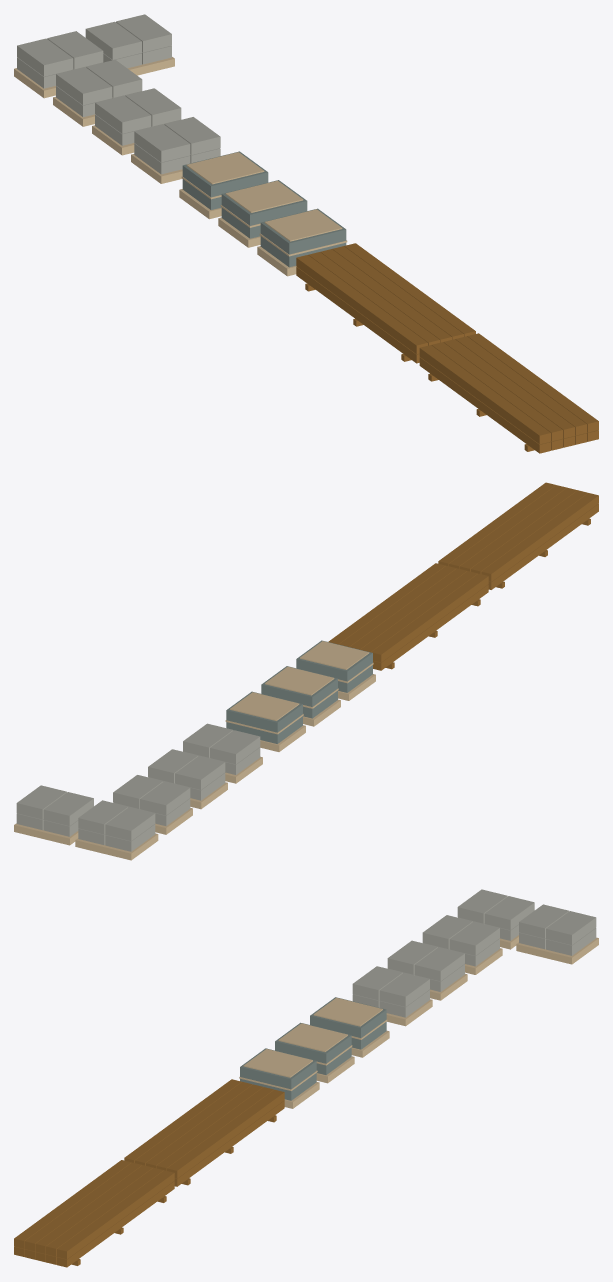
File: SM_CargaMateriales_Mitad_LOD0.fbx
The picture shows the model from 3 angles, top to bottom: view 1: azimuth 30°, elevation 25°; view 2: azimuth 150°, elevation 25°; view 3: azimuth 330°, elevation 25°; orthographic projection. The views are drawn at different scales.
Parts seen in each view (by area): view 1: SM_carga_vagon_v11_LOD0; view 2: SM_carga_vagon_v11_LOD0; view 3: SM_carga_vagon_v11_LOD0.
Part boxes in pixels (x1,y1,x2,y2): SM_carga_vagon_v11_LOD0: (14, 14, 598, 453); SM_carga_vagon_v11_LOD0: (14, 482, 598, 860); SM_carga_vagon_v11_LOD0: (14, 889, 598, 1267).
Size of the model in its own units: 2.52 by 0.605 by 17.45.
